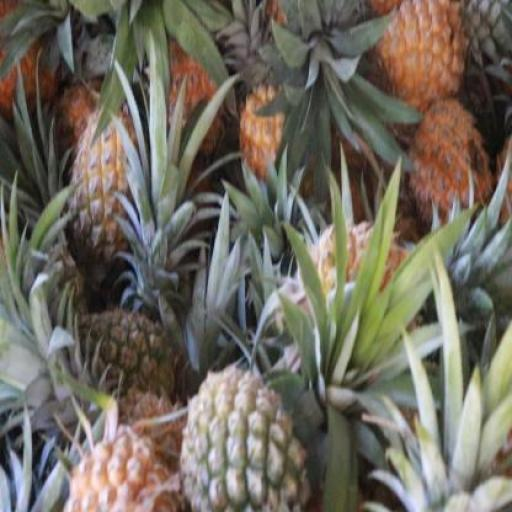------------------------------: (180, 368, 312, 512), (66, 114, 140, 272)
Pineapple - v8 v1: (403, 105, 493, 236), (378, 0, 468, 123)
